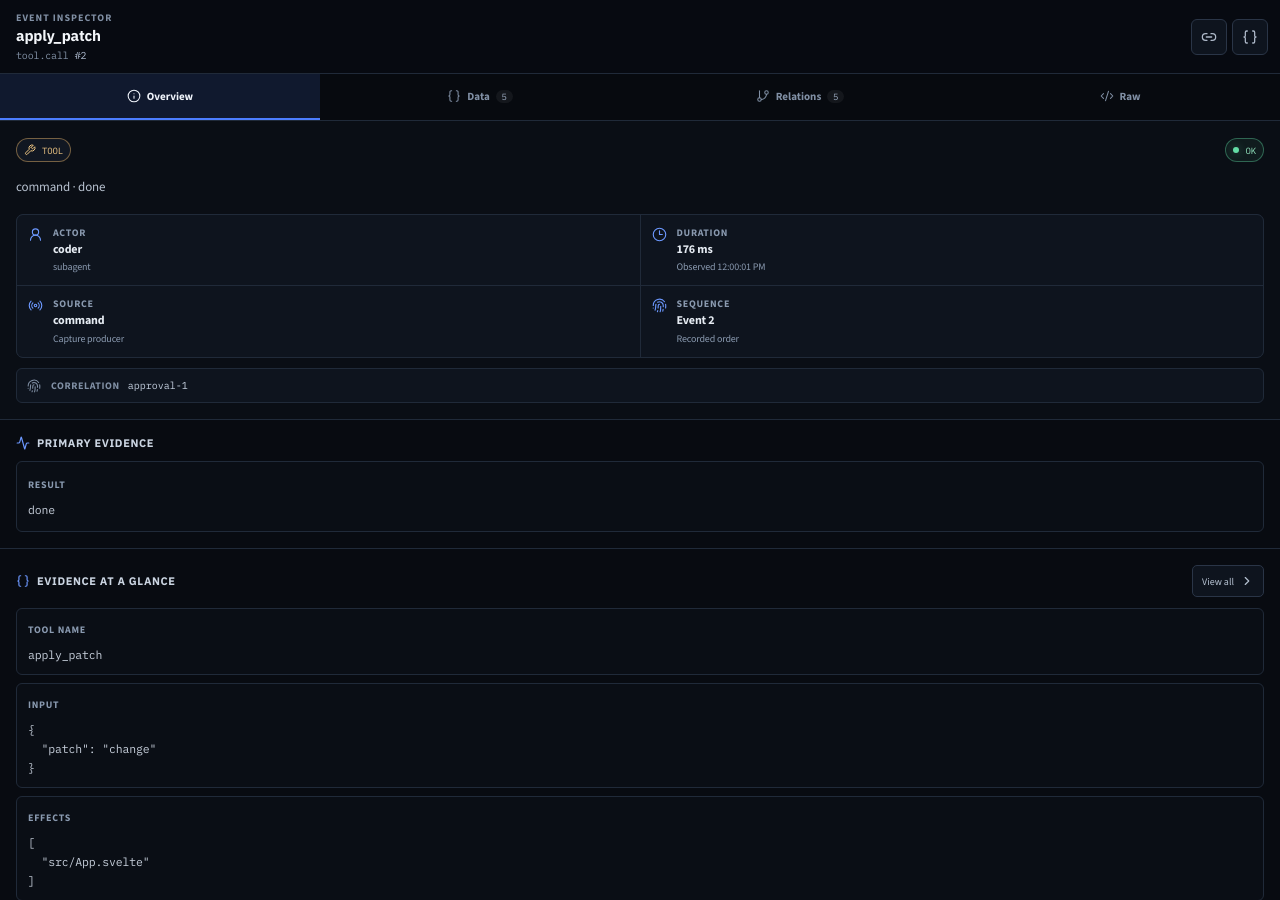
Test: Inspector › organizes input, output, effects, authority, and raw evidence
Expected: the text "apply_patch" below "Event inspector" is shown, [16,26,101,45]
Click the tab "Data 5": {"x": 480, "y": 97} [320,74,640,120]
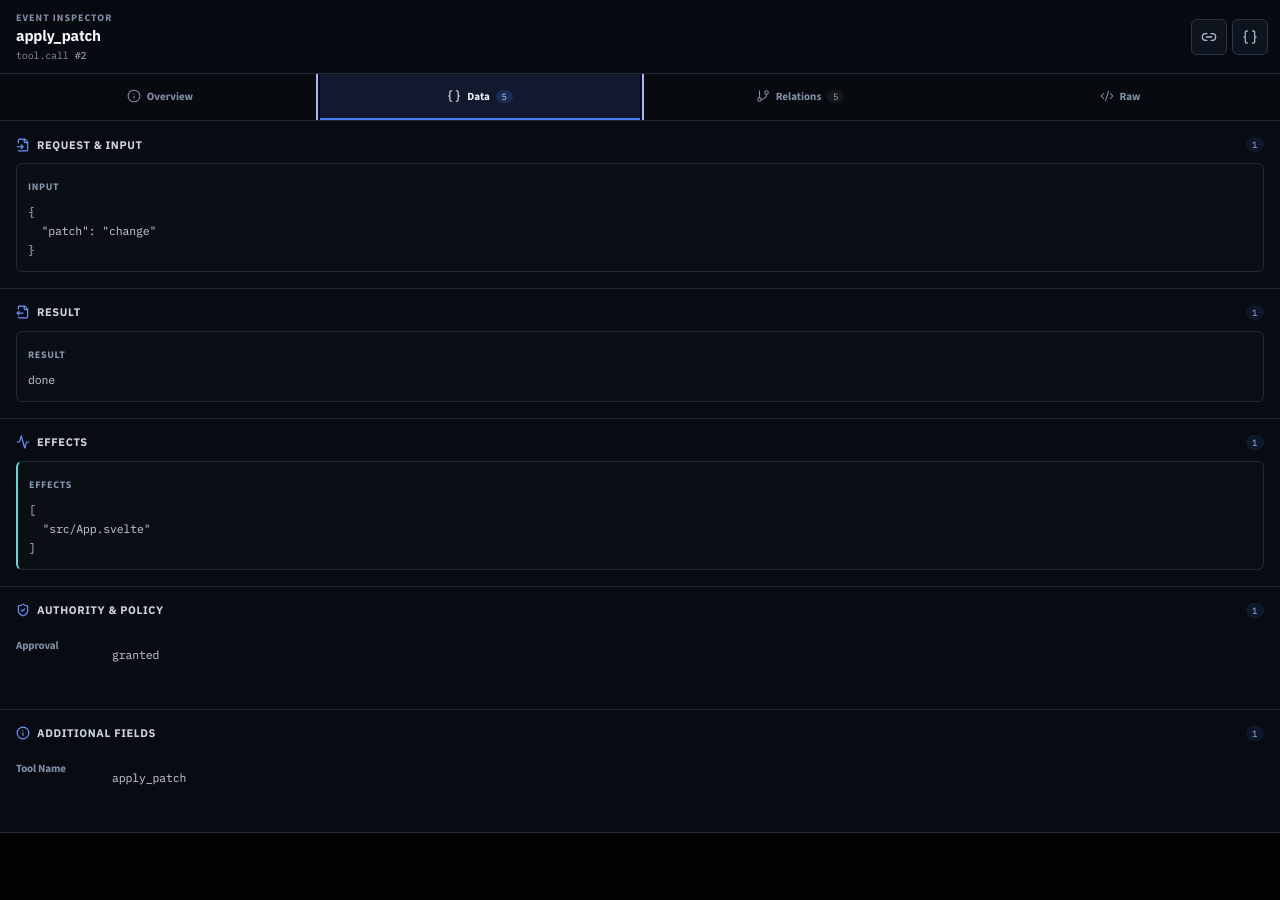
Expected: the heading "Request & input 1" is shown, [16,137,1264,152]
Expected: the heading "Result 1" is shown, [16,305,1264,320]
Expected: the heading "Effects 1" is shown, [16,435,1264,450]
Click the tab "Raw": {"x": 1120, "y": 97} [960,74,1279,120]
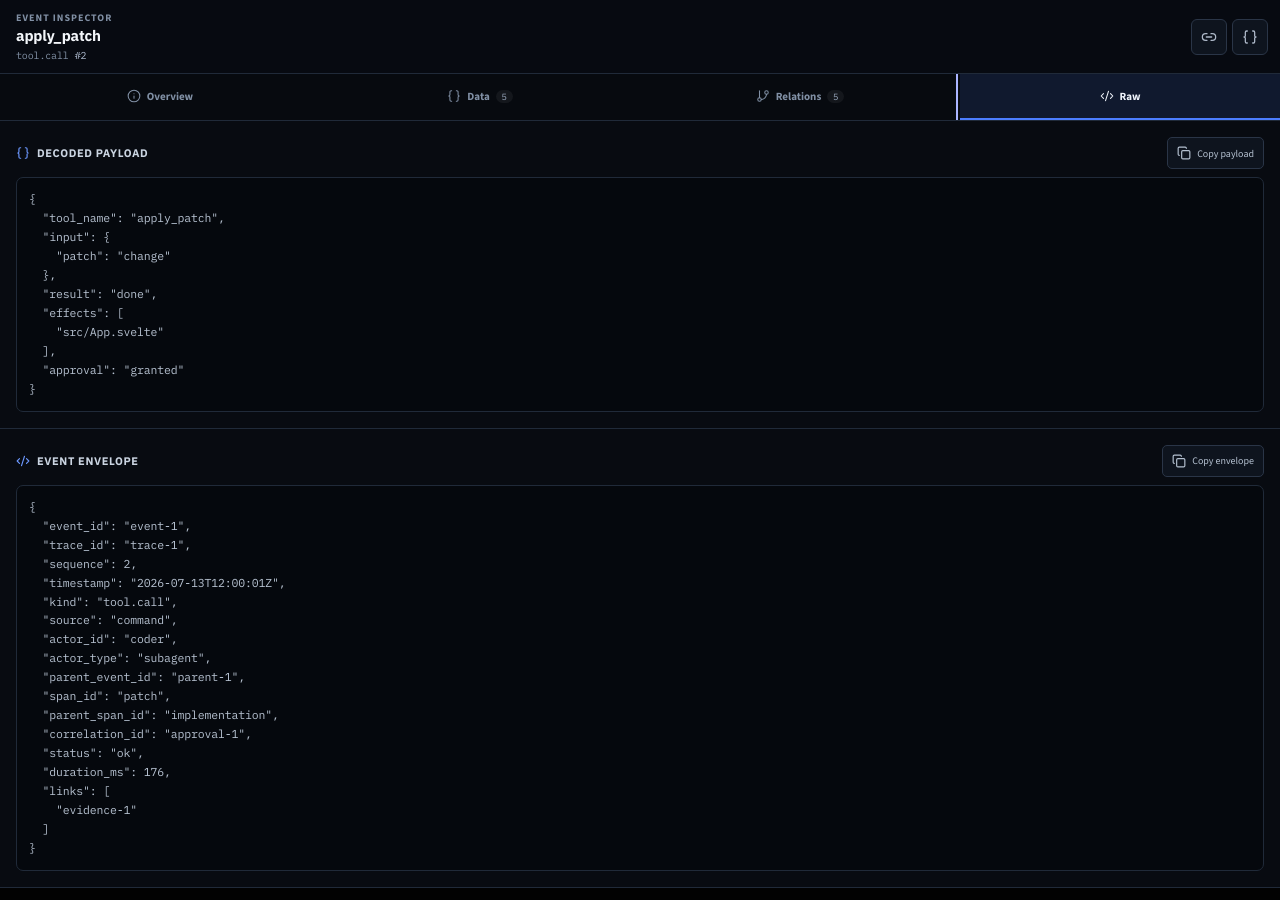
Expected: the heading "Decoded payload" is shown, [16,146,148,160]
Expected: the heading "Event envelope" is shown, [16,454,139,468]
